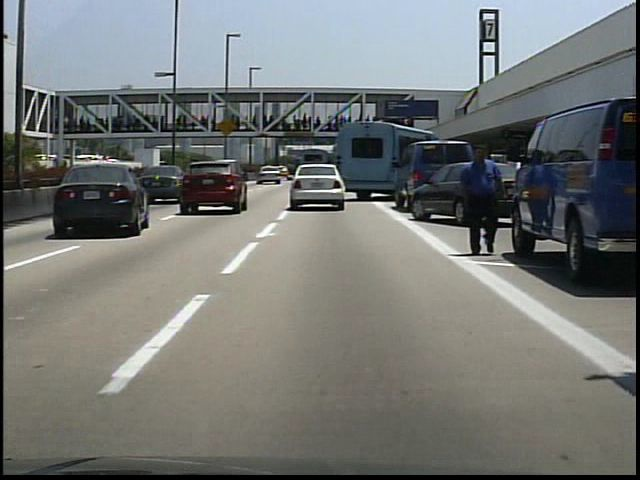person: (454, 146, 506, 256)
